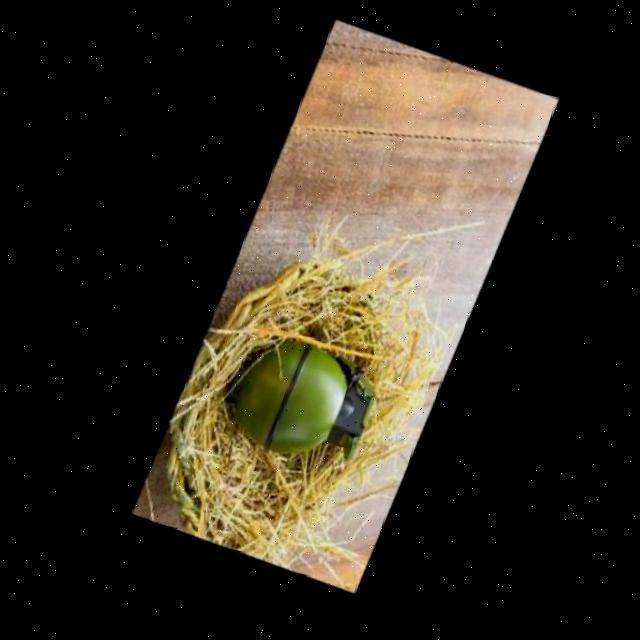grenade: (206, 326, 393, 506)
